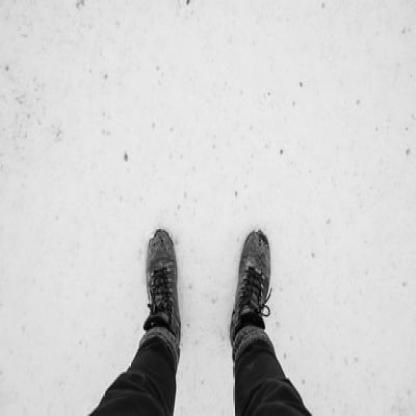ankle: (240, 323, 242, 328), (176, 327, 178, 332)
heel: (232, 339, 235, 342), (179, 339, 180, 341)
left_foot: (147, 230, 182, 344)
pinky: (150, 242, 154, 247), (267, 246, 269, 250)
right_foot: (231, 232, 272, 347)
toe: (167, 237, 170, 241), (247, 241, 250, 244)
